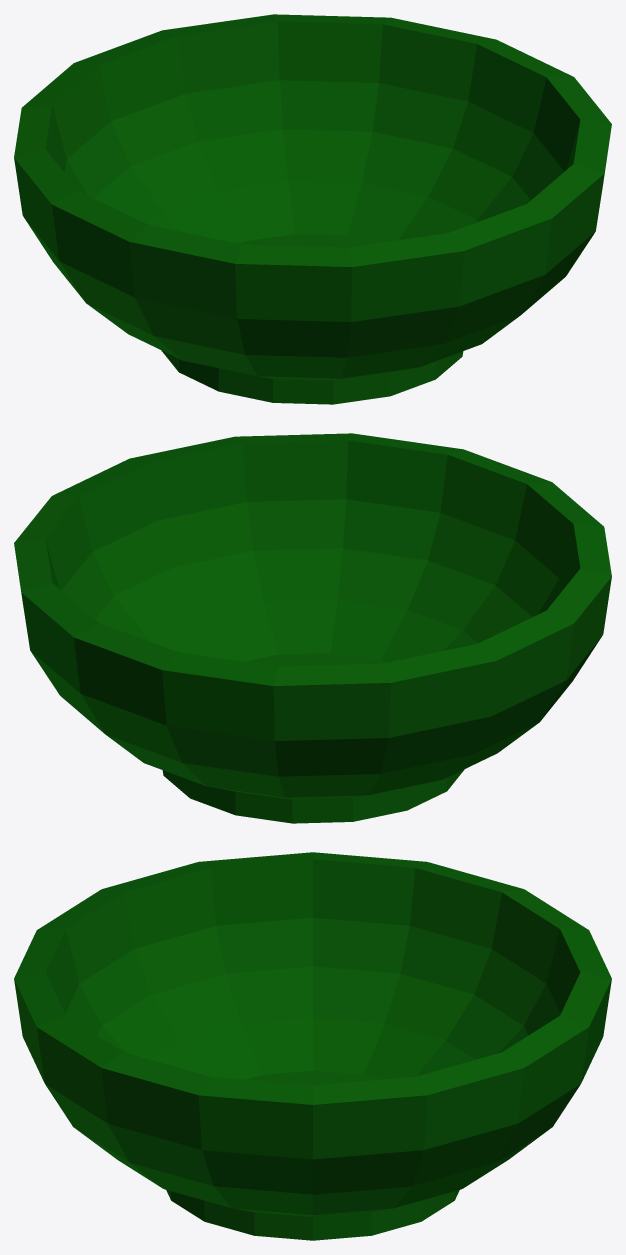
The model's file is LudumDareBowl 1.fbx.
3 renders of one model, top to bottom at view 1: azimuth 30°, elevation 25°; view 2: azimuth 150°, elevation 25°; view 3: azimuth 270°, elevation 25°, orthographic.
Visible parts, largest first — view 1: Bowl; view 2: Bowl; view 3: Bowl.
Part boxes in pixels (x1,y1,x2,y2): Bowl: (14,14,611,404); Bowl: (14,433,611,823); Bowl: (14,852,611,1240).
Size of the model in its own units: 24.2 by 9.27 by 24.2.
